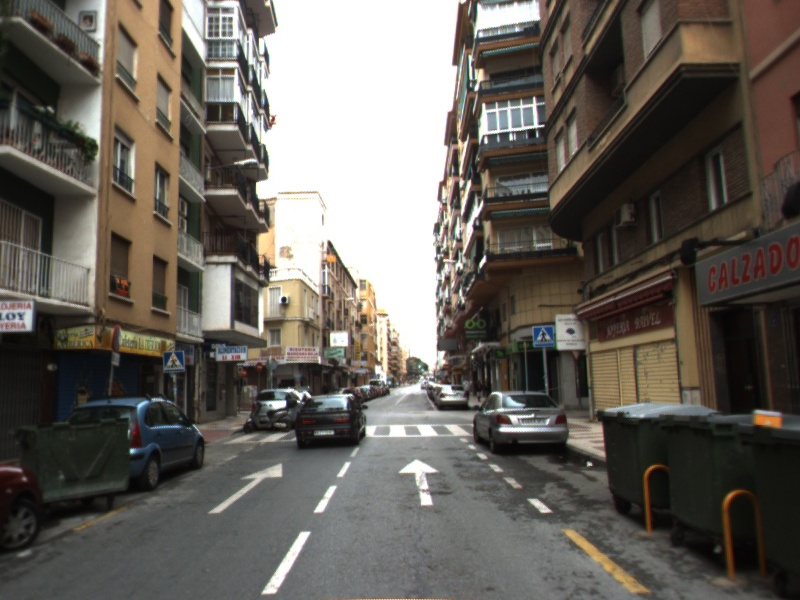STRAIGHT: (206, 461, 284, 515), (396, 456, 442, 508)
